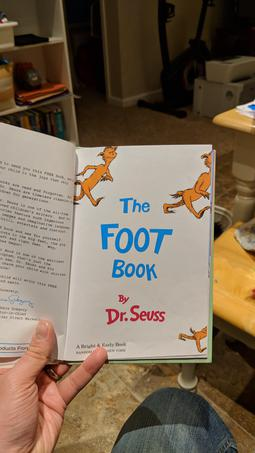text block: (1, 185, 79, 320), (1, 155, 77, 186), (69, 337, 138, 355)
